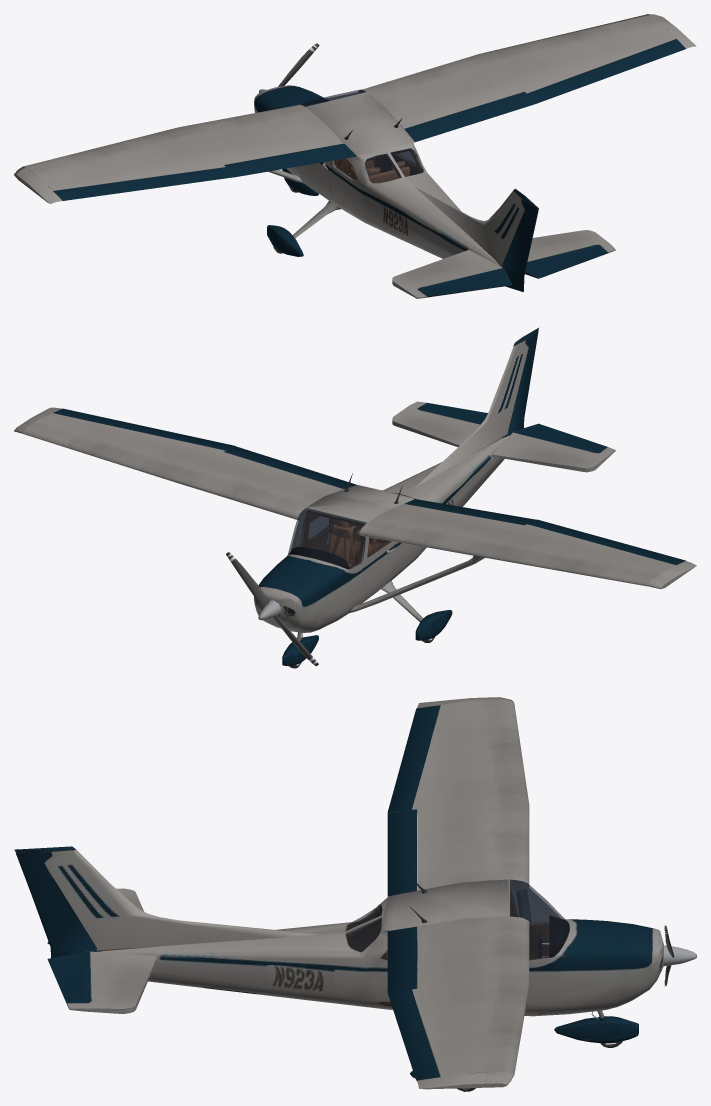
3 renders of one model, top to bottom at view 1: azimuth 30°, elevation 25°; view 2: azimuth 150°, elevation 25°; view 3: azimuth 270°, elevation 25°, orthographic. The views are drawn at different scales.
Parts seen in each view (by area): view 1: body; view 2: body, prop; view 3: body, prop.
Boxes of the visible parts, <box> form: body: <box>14,14,696,298</box>; body: <box>14,328,696,668</box>; prop: <box>226,552,318,666</box>; body: <box>14,697,663,1091</box>; prop: <box>663,925,696,986</box>.
Bounding box in the file's own units: 11 × 2.67 × 8.23.
Materials: 3 (2 with a texture image).
